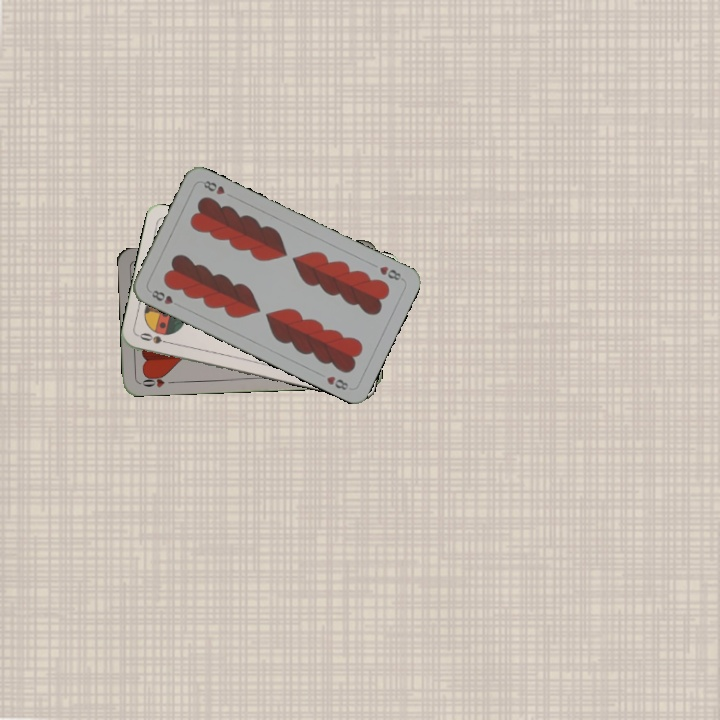H8: (375, 262, 406, 283), (147, 286, 175, 307)
HO: (138, 371, 177, 390)
SO: (135, 328, 175, 347)
